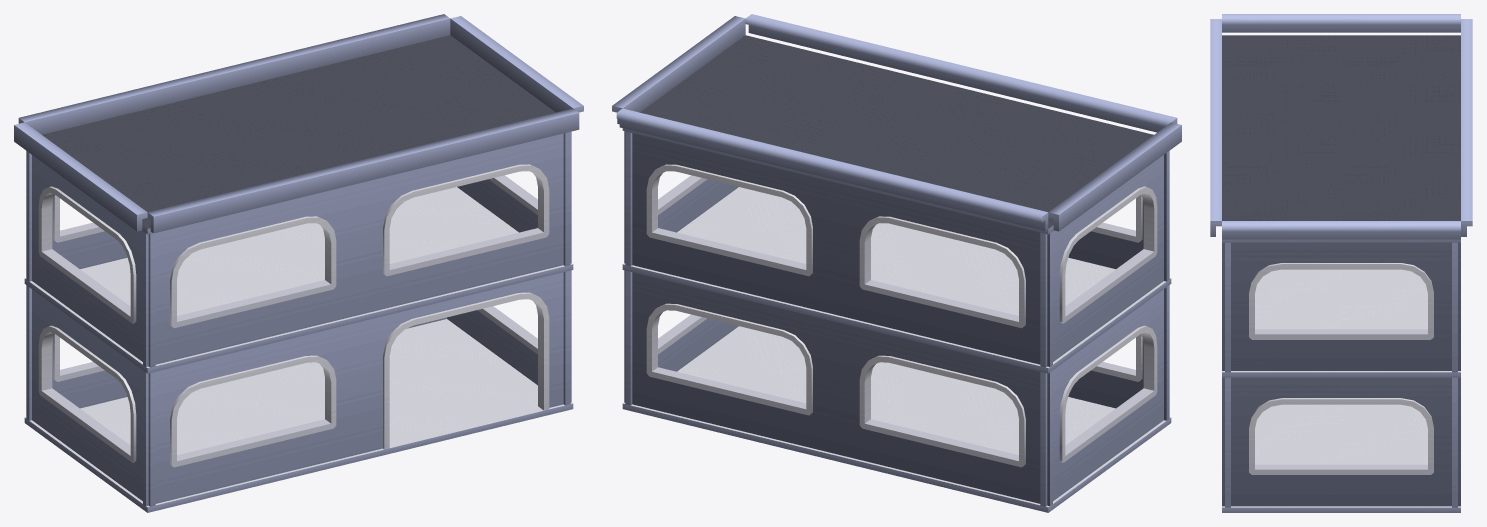
File: scenery_building_3.glb
3 views of the same model, side by side, from view 1: azimuth 30°, elevation 25°; view 2: azimuth 150°, elevation 25°; view 3: azimuth 270°, elevation 25° (orthographic). The views are drawn at different scales.
Parts seen in each view (by area): view 1: scenery_building_3; view 2: scenery_building_3; view 3: scenery_building_3.
Boxes of the visible parts, x1,y1,x2,y2 form: scenery_building_3: [14, 14, 583, 512]; scenery_building_3: [612, 14, 1181, 512]; scenery_building_3: [1210, 14, 1472, 512].
Size of the model in its own units: 14.78 by 9.5 by 7.74.
Materials: 5 (5 with a texture image).
